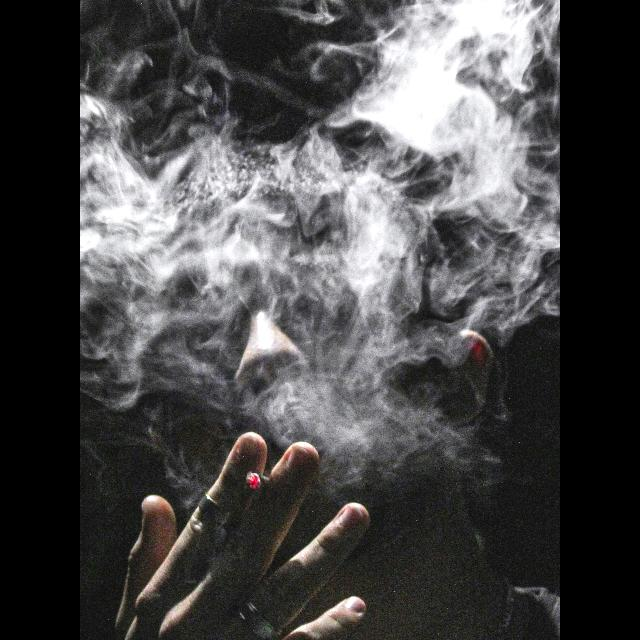smoke: (80, 0, 560, 502)
